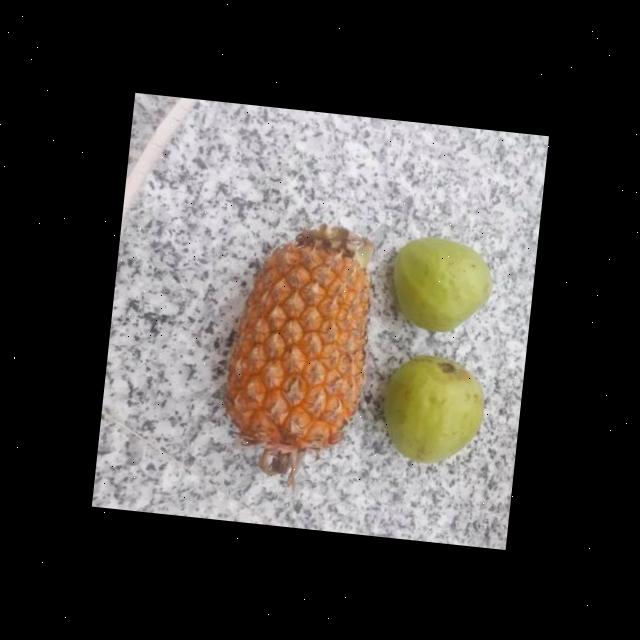guava: (378, 345, 486, 466), (390, 230, 494, 336)
pineapple: (220, 215, 381, 467)
